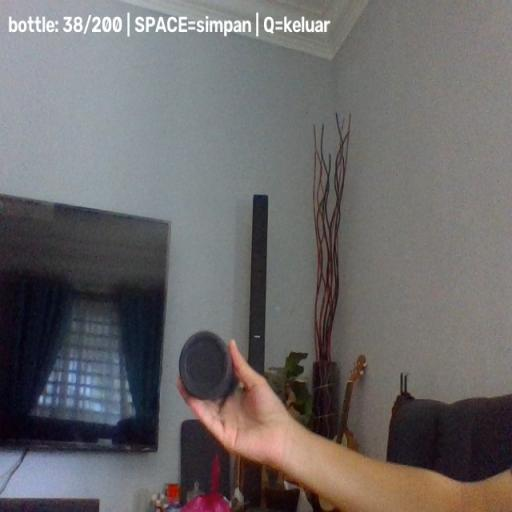Bottle: (178, 330, 238, 403)
